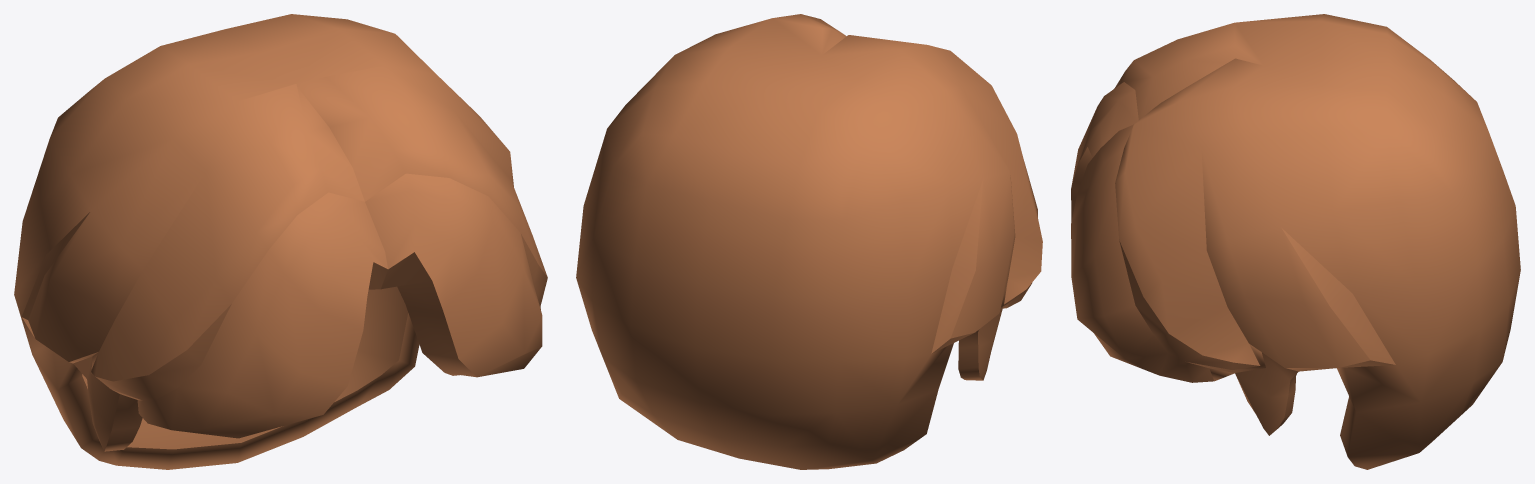
File: hair02.fbx
The picture shows the model from 3 angles, left to right: view 1: azimuth 30°, elevation 25°; view 2: azimuth 150°, elevation 25°; view 3: azimuth 270°, elevation 25°; orthographic projection. The views are drawn at different scales.
Parts seen in each view (by area): view 1: HairMale_2; view 2: HairMale_2; view 3: HairMale_2.
Boxes of the visible parts, x1=… form: HairMale_2: x1=14, y1=14, x2=547, y2=469; HairMale_2: x1=576, y1=14, x2=1042, y2=469; HairMale_2: x1=1071, y1=14, x2=1520, y2=469.
Bounding box in the file's own units: 72.01 × 67.67 × 70.92.
